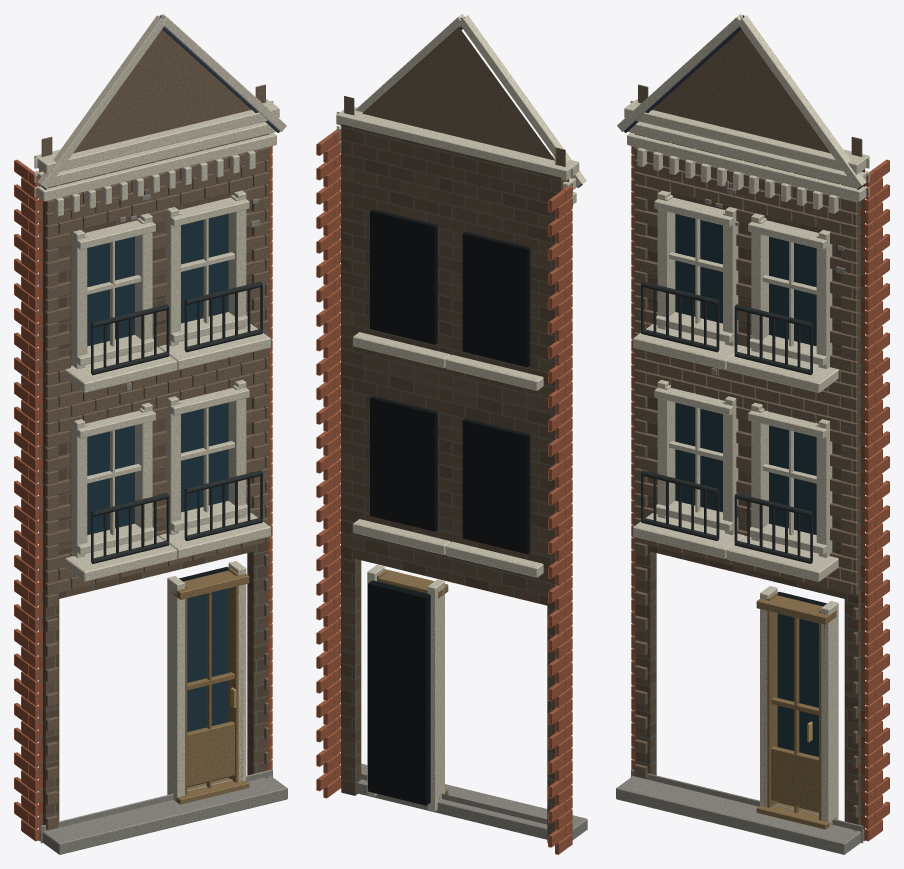
Rendered from VICT29_lod0.glb.
3 views of the same model, side by side, from view 1: azimuth 30°, elevation 25°; view 2: azimuth 150°, elevation 25°; view 3: azimuth 330°, elevation 25° (orthographic).
Parts seen in each view (by area): view 1: VICT29_FRONT_LOD0; view 2: VICT29_FRONT_LOD0; view 3: VICT29_FRONT_LOD0.
Boxes of the visible parts, bbox=[...] form: VICT29_FRONT_LOD0: bbox=[14, 14, 287, 854]; VICT29_FRONT_LOD0: bbox=[316, 14, 587, 854]; VICT29_FRONT_LOD0: bbox=[616, 14, 889, 854].
Size of the model in its own units: 3.53 by 11.05 by 1.13.
17 materials, 14 textured.
